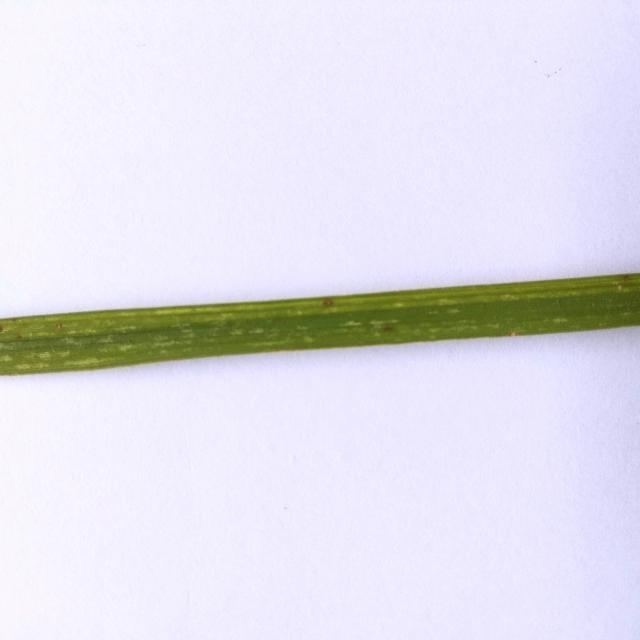Blast: (381, 322, 401, 336), (320, 296, 336, 310)
